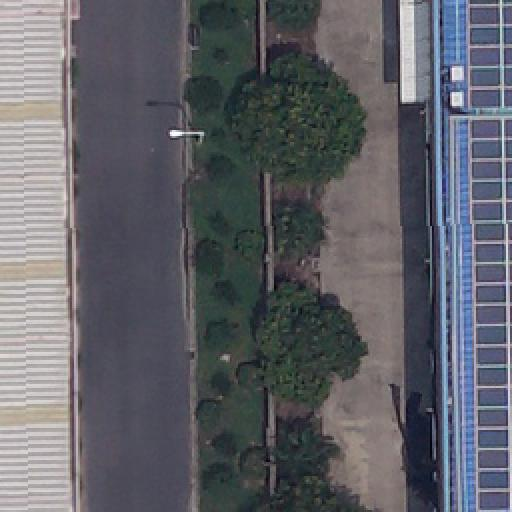solar-panel: (465, 0, 512, 512)
